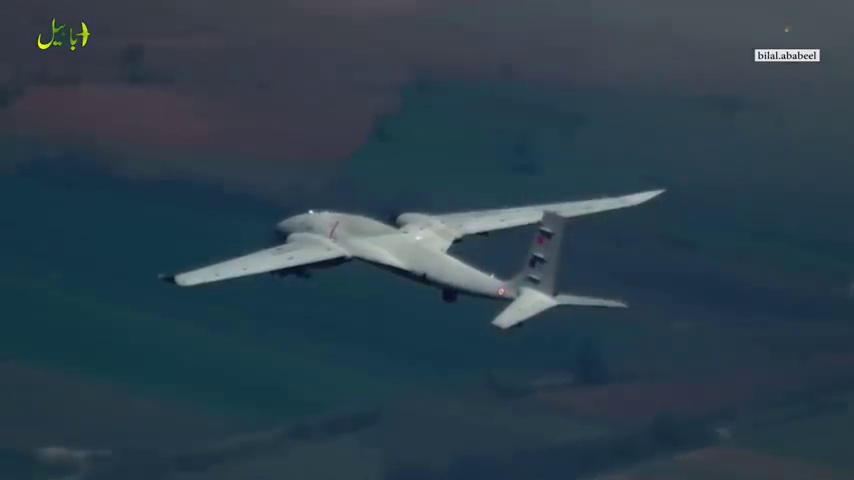military drone: (156, 188, 666, 331)
